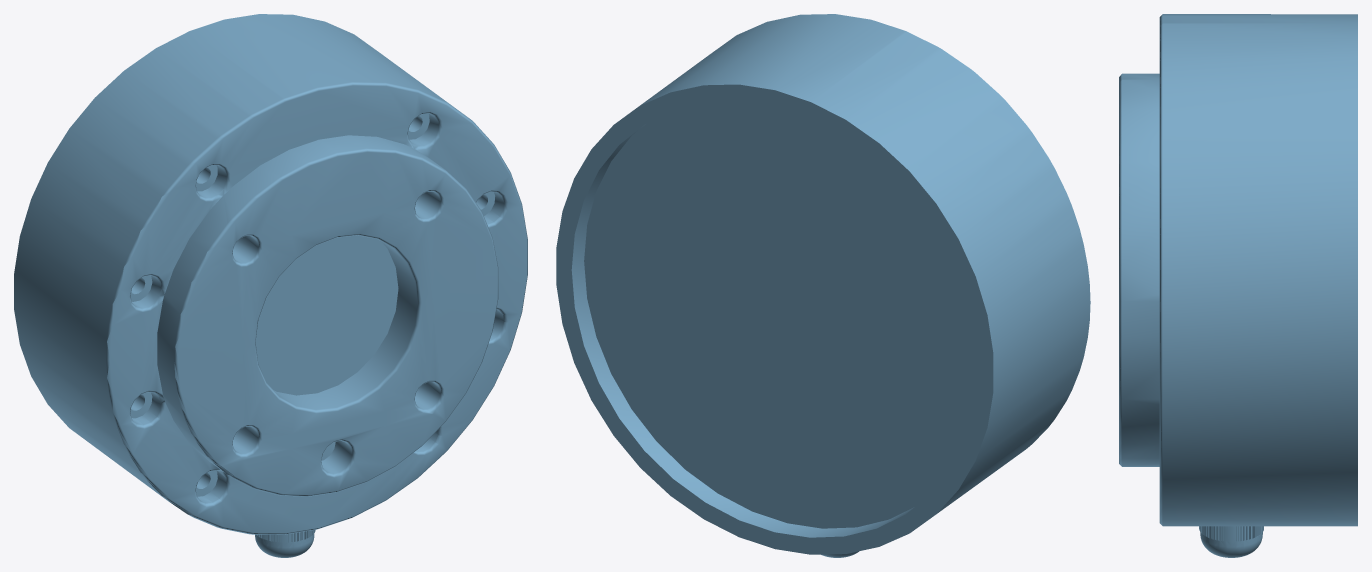
3 renders of one model, left to right at view 1: azimuth 30°, elevation 25°; view 2: azimuth 150°, elevation 25°; view 3: azimuth 270°, elevation 25°, orthographic. The views are drawn at different scales.
Visible parts, largest first — view 1: Link6-mesh; view 2: Link6-mesh; view 3: Link6-mesh.
Boxes of the visible parts, x1,y1,x2,y2 form: Link6-mesh: [14, 14, 527, 557]; Link6-mesh: [556, 14, 1090, 557]; Link6-mesh: [1119, 14, 1357, 557].
Bounding box in the file's own units: 0.0819 × 0.0905 × 0.0382.
